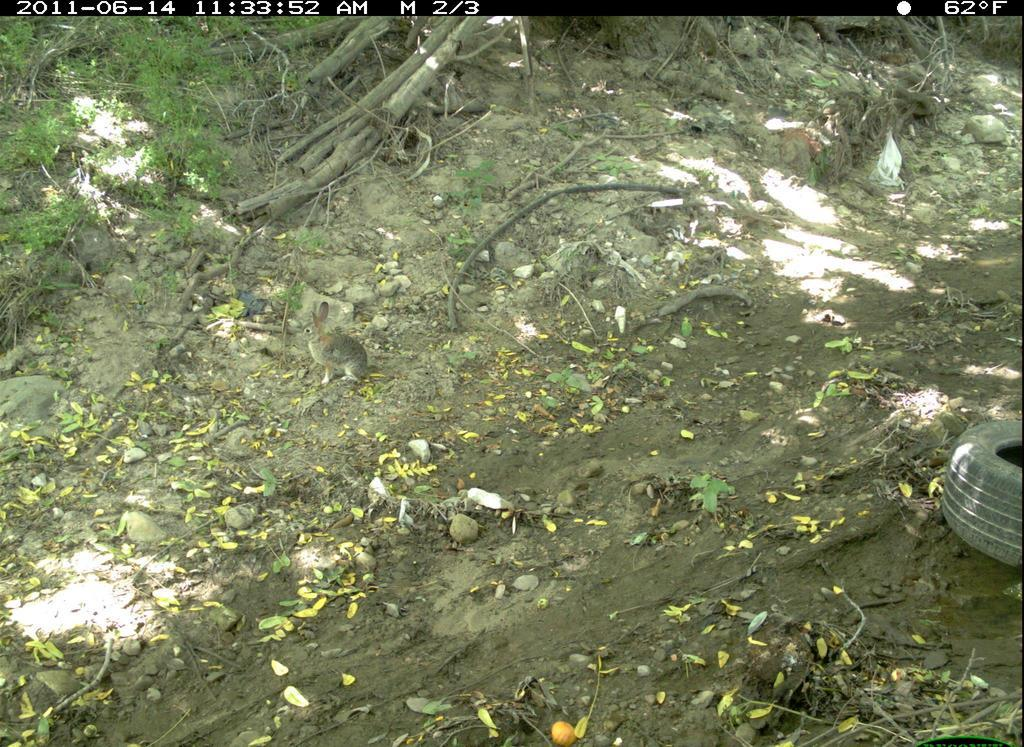rabbit: (297, 297, 378, 392)
